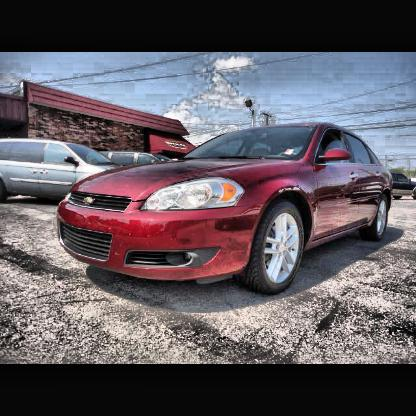Chevrolet Impala Sedan 2007: (56, 122, 396, 300)
